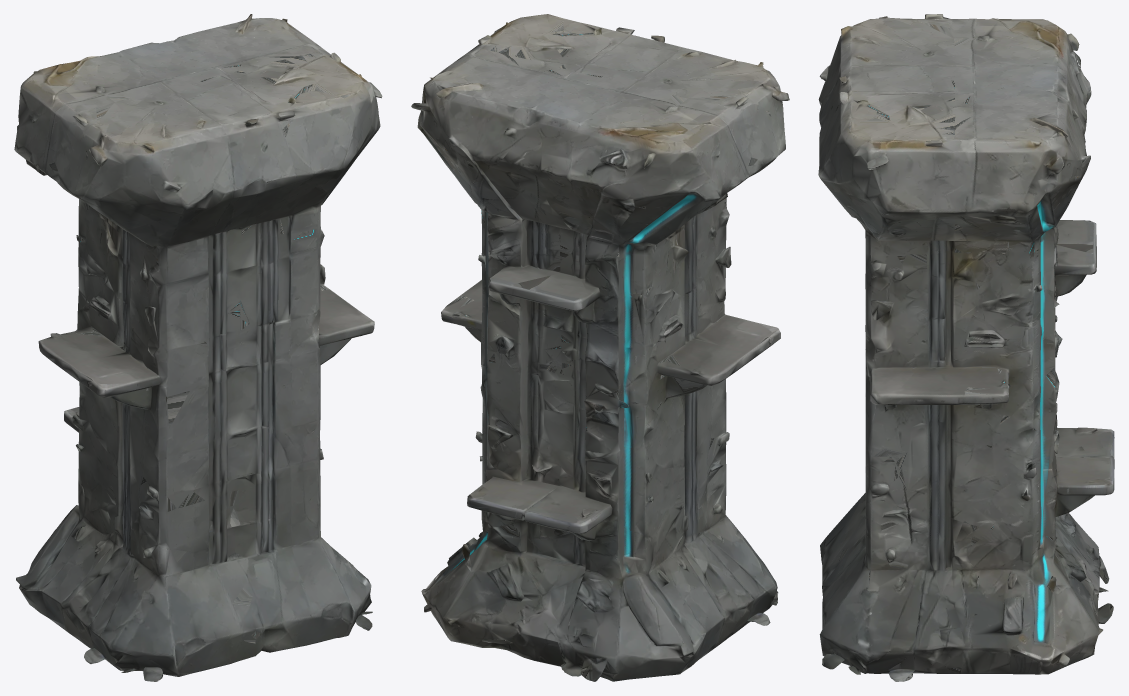
File: landmark_pillar.glb
The picture shows the model from 3 angles, left to right: view 1: azimuth 30°, elevation 25°; view 2: azimuth 150°, elevation 25°; view 3: azimuth 270°, elevation 25°; orthographic projection.
Parts seen in each view (by area): view 1: tripo_node_badb61dd-fe06-4f79-bbef-d8421210e453; view 2: tripo_node_badb61dd-fe06-4f79-bbef-d8421210e453; view 3: tripo_node_badb61dd-fe06-4f79-bbef-d8421210e453.
Part boxes in pixels (x1,y1,x2,y2): tripo_node_badb61dd-fe06-4f79-bbef-d8421210e453: (14, 14, 382, 681); tripo_node_badb61dd-fe06-4f79-bbef-d8421210e453: (411, 14, 789, 681); tripo_node_badb61dd-fe06-4f79-bbef-d8421210e453: (818, 14, 1114, 681).
Bounding box in the file's own units: 0.5889 × 0.9982 × 0.4977.
Materials: 1 (1 with a texture image).
